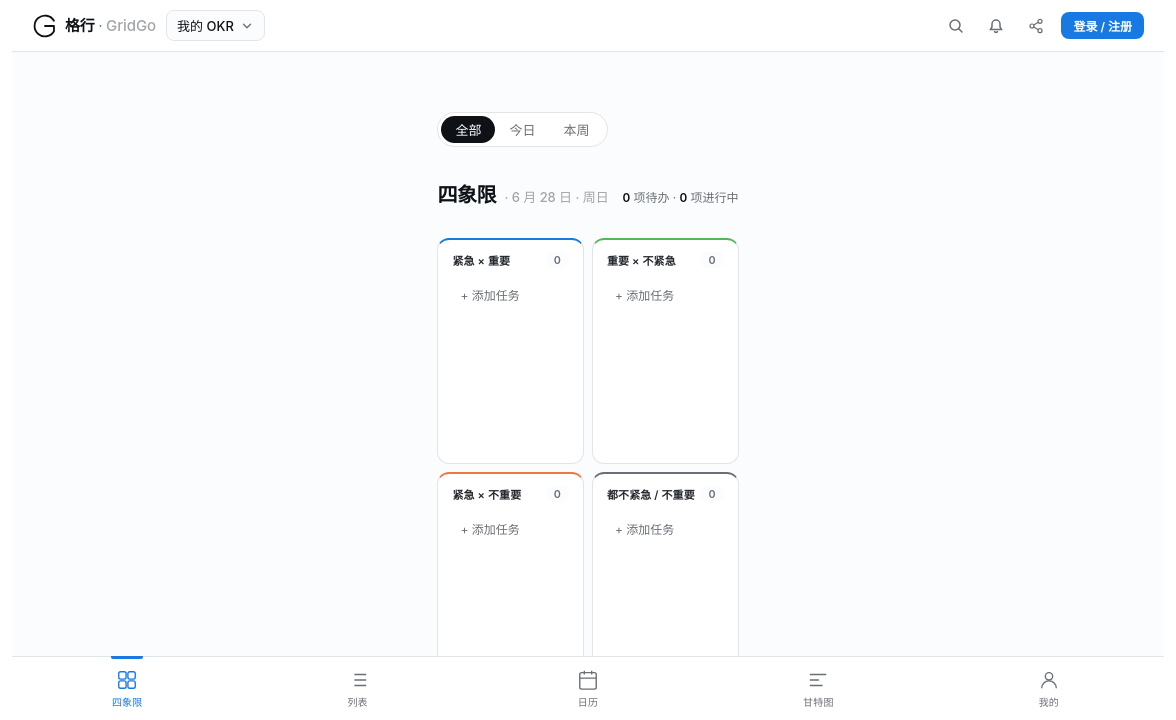
日常操作 7 步流程 › 5. 切到 Gantt Tab，能看到本月/本季度/全年 3 个子 Tab
Click the tab "甘特图" at (818, 688), box [703,657,934,719]
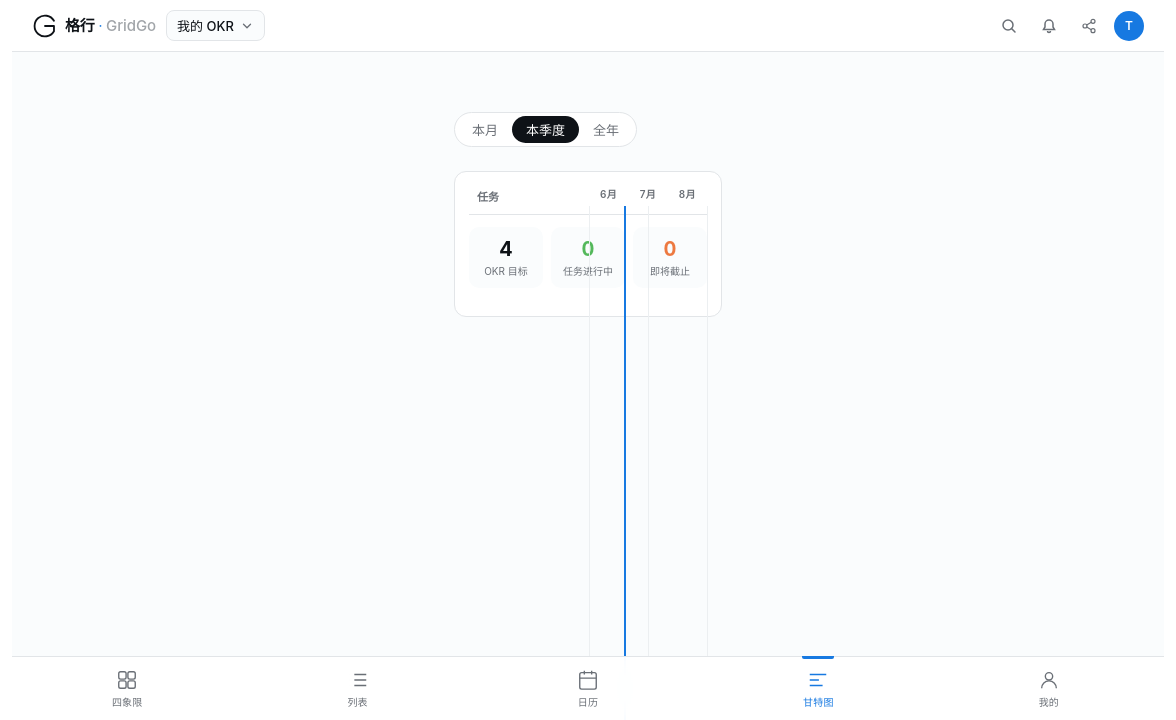
Result: the tab "本月" is shown at [458,116,512,143]
Result: the tab "本季度" is shown at [512,116,579,143]
Result: the tab "全年" is shown at [579,116,633,143]
